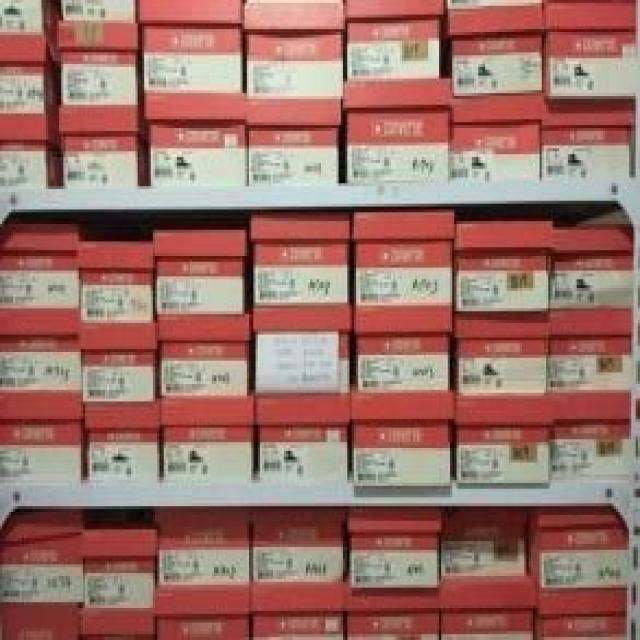box: (343, 79, 454, 183), (352, 393, 454, 497), (240, 0, 345, 99), (352, 209, 457, 308), (144, 93, 249, 186), (138, 0, 242, 93), (251, 209, 349, 305), (544, 3, 638, 102), (253, 305, 352, 396), (526, 506, 629, 593), (454, 396, 550, 489), (448, 93, 548, 180), (256, 396, 349, 489), (448, 6, 544, 96), (457, 221, 553, 311), (245, 99, 343, 186), (153, 230, 251, 317), (354, 308, 454, 393), (343, 0, 446, 81), (0, 509, 87, 602), (0, 218, 81, 317), (157, 314, 251, 399), (457, 311, 550, 396), (347, 509, 443, 591), (542, 96, 638, 177), (162, 401, 253, 483), (59, 52, 149, 134), (548, 308, 633, 393), (550, 224, 633, 311), (157, 509, 251, 585), (251, 509, 345, 585), (0, 317, 83, 401), (553, 393, 631, 480), (85, 401, 162, 486), (76, 241, 155, 323), (439, 576, 537, 640), (79, 320, 155, 401), (83, 529, 157, 608), (0, 64, 66, 151), (153, 585, 251, 640), (249, 585, 345, 640), (63, 134, 151, 192), (345, 588, 441, 640), (535, 588, 629, 640), (57, 0, 140, 52), (441, 529, 526, 579), (0, 143, 63, 192), (0, 602, 81, 640), (81, 608, 155, 640)
